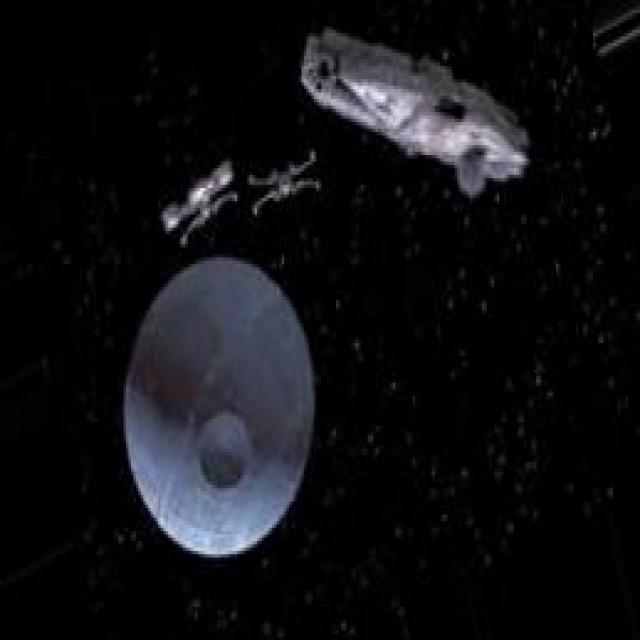deathstar: (125, 258, 315, 556)
